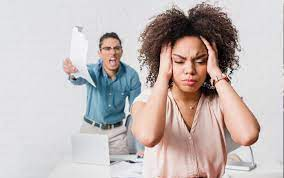Angry: (103, 45, 121, 66)
